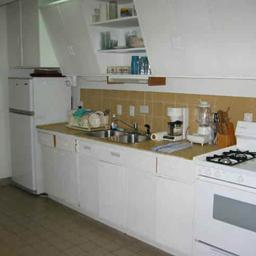Electrodomestico: (199, 143, 255, 255), (8, 76, 41, 196)
Lavaplatos: (92, 120, 151, 150)
